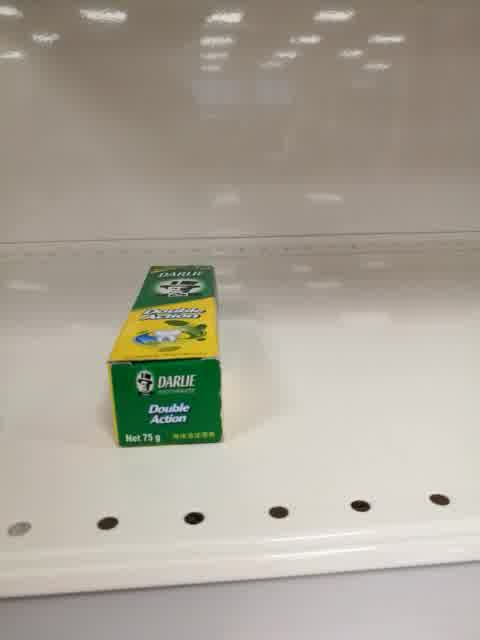toothpaste: (105, 264, 224, 448)
